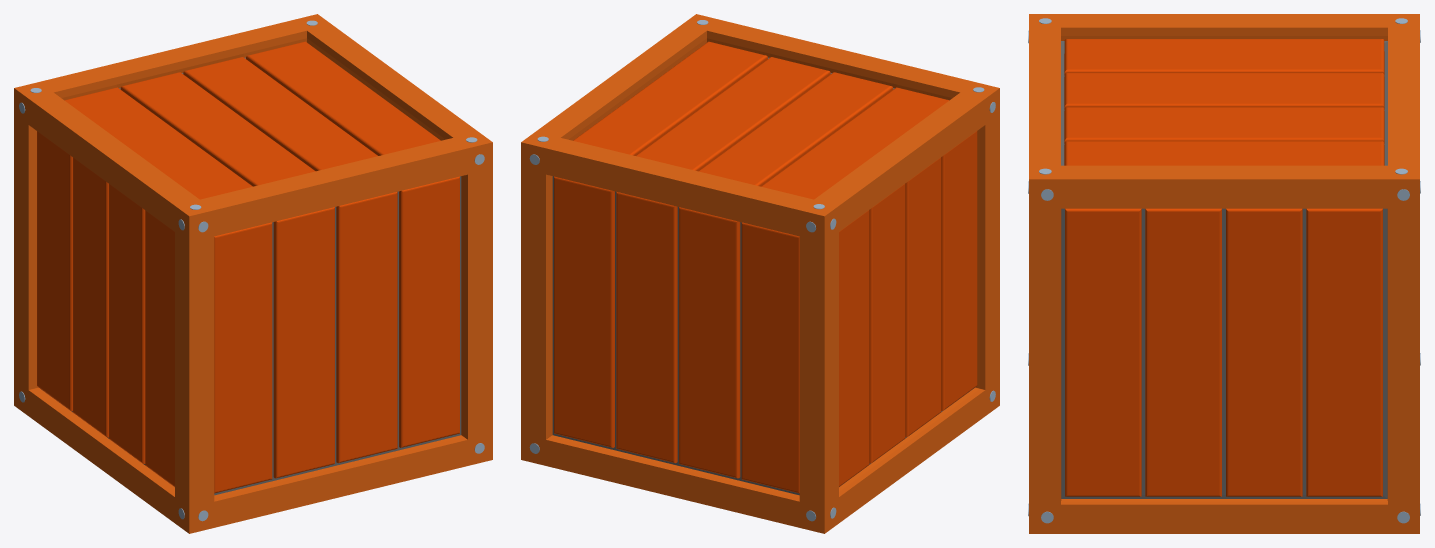
Rendered from 4x0 kutija v2 final.fbx.
The picture shows the model from 3 angles, left to right: view 1: azimuth 30°, elevation 25°; view 2: azimuth 150°, elevation 25°; view 3: azimuth 270°, elevation 25°; orthographic projection. The views are drawn at different scales.
Parts seen in each view (by area): view 1: Cube.191; view 2: Cube.191; view 3: Cube.191.
Part boxes in pixels (x1,y1,x2,y2): Cube.191: [14, 14, 492, 533]; Cube.191: [521, 14, 999, 533]; Cube.191: [1028, 14, 1420, 533].
Size of the model in its own units: 201 by 200 by 201.
